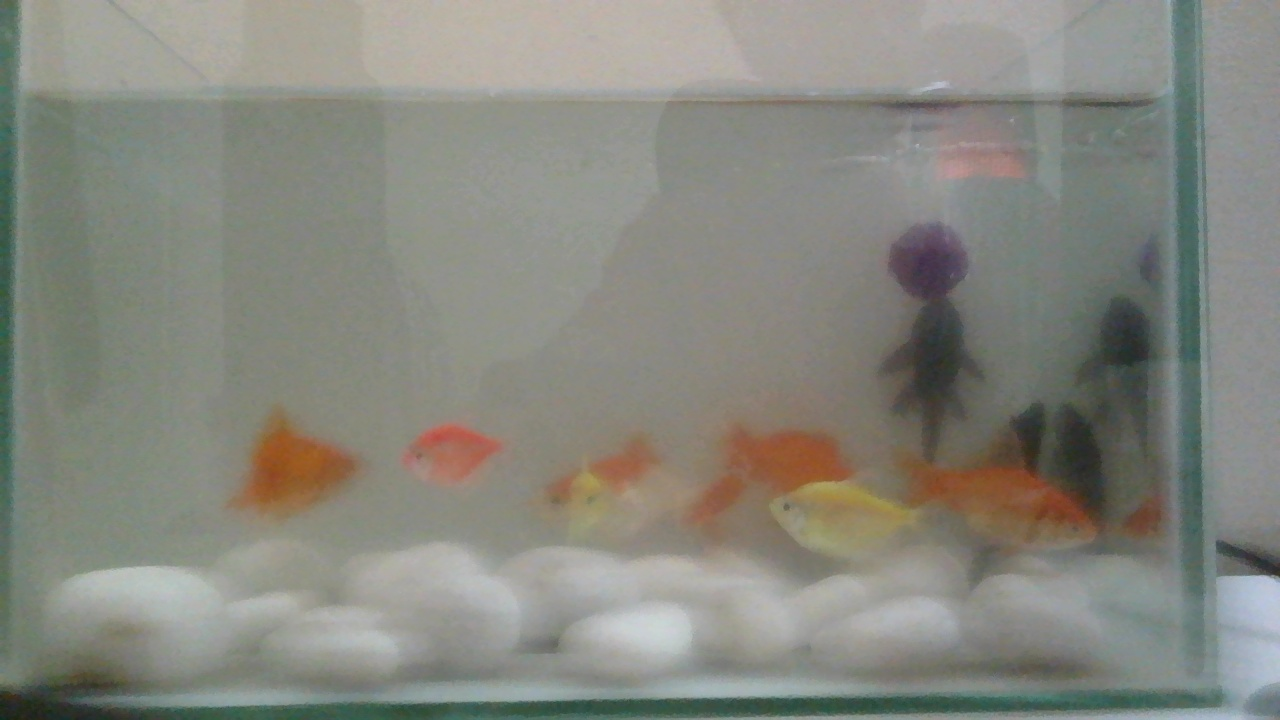fish: (225, 397, 367, 522), (399, 419, 510, 492)
